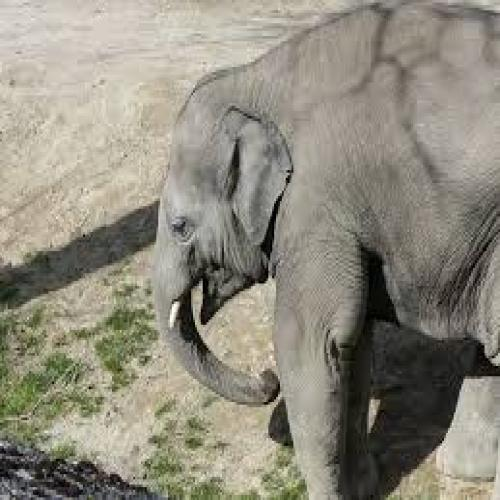asian_elephant-endangered: (146, 0, 500, 500)
